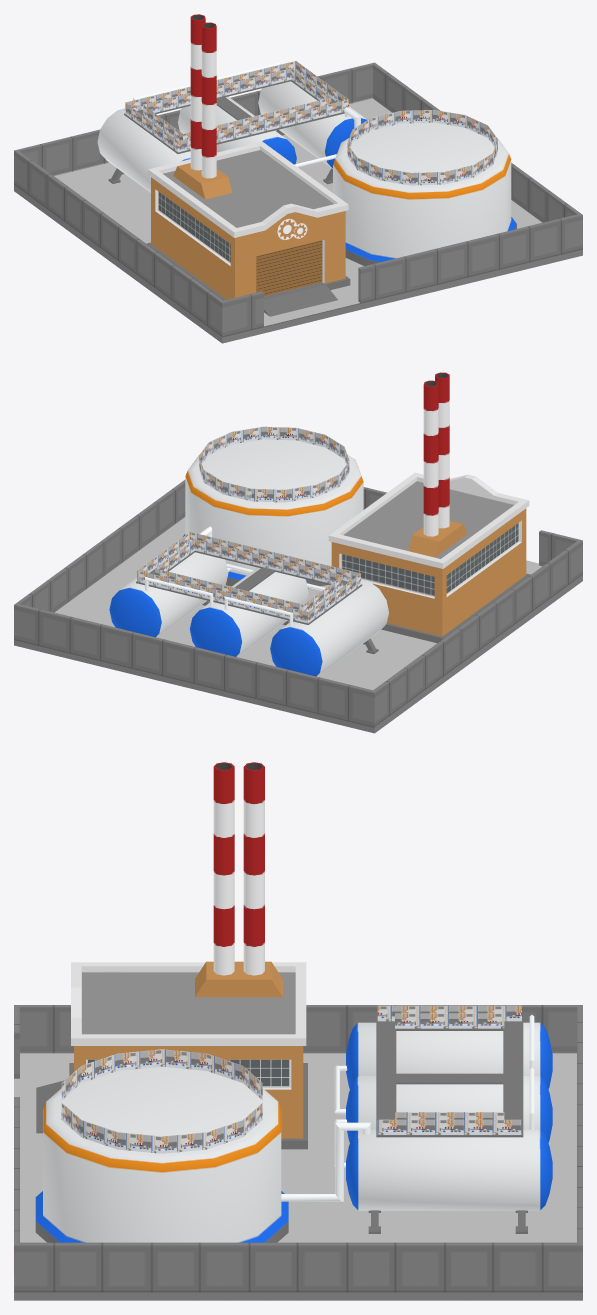
The model's file is Factory.glb.
The picture shows the model from 3 angles, top to bottom: view 1: azimuth 30°, elevation 25°; view 2: azimuth 150°, elevation 25°; view 3: azimuth 270°, elevation 25°; orthographic projection. The views are drawn at different scales.
Visible parts, largest first — view 1: Box154; view 2: Box154; view 3: Box154.
Boxes of the visible parts, bbox=[...] form: Box154: bbox=[14, 14, 582, 343]; Box154: bbox=[14, 372, 582, 733]; Box154: bbox=[14, 762, 582, 1300].
Bounding box in the file's own units: 12 × 7.82 × 12.
1 material, 1 textured.
